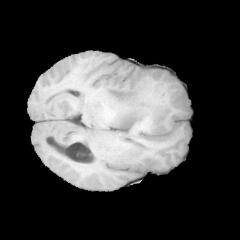glioma: (107, 78, 172, 135)
